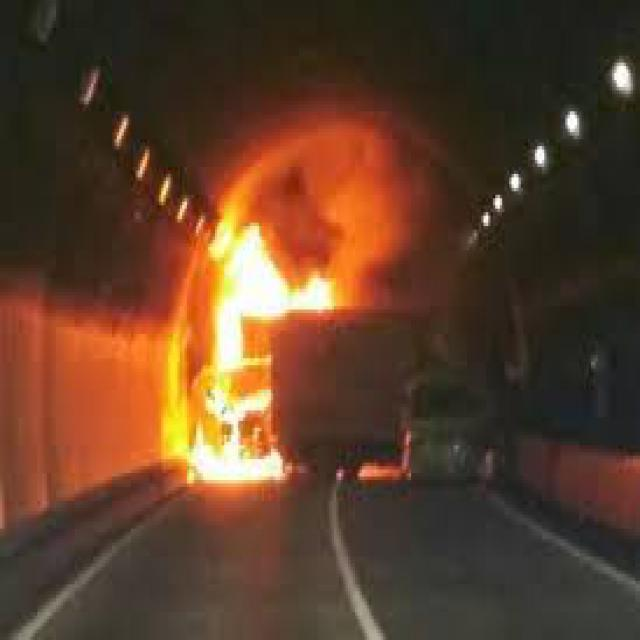fire: (180, 215, 303, 515)
